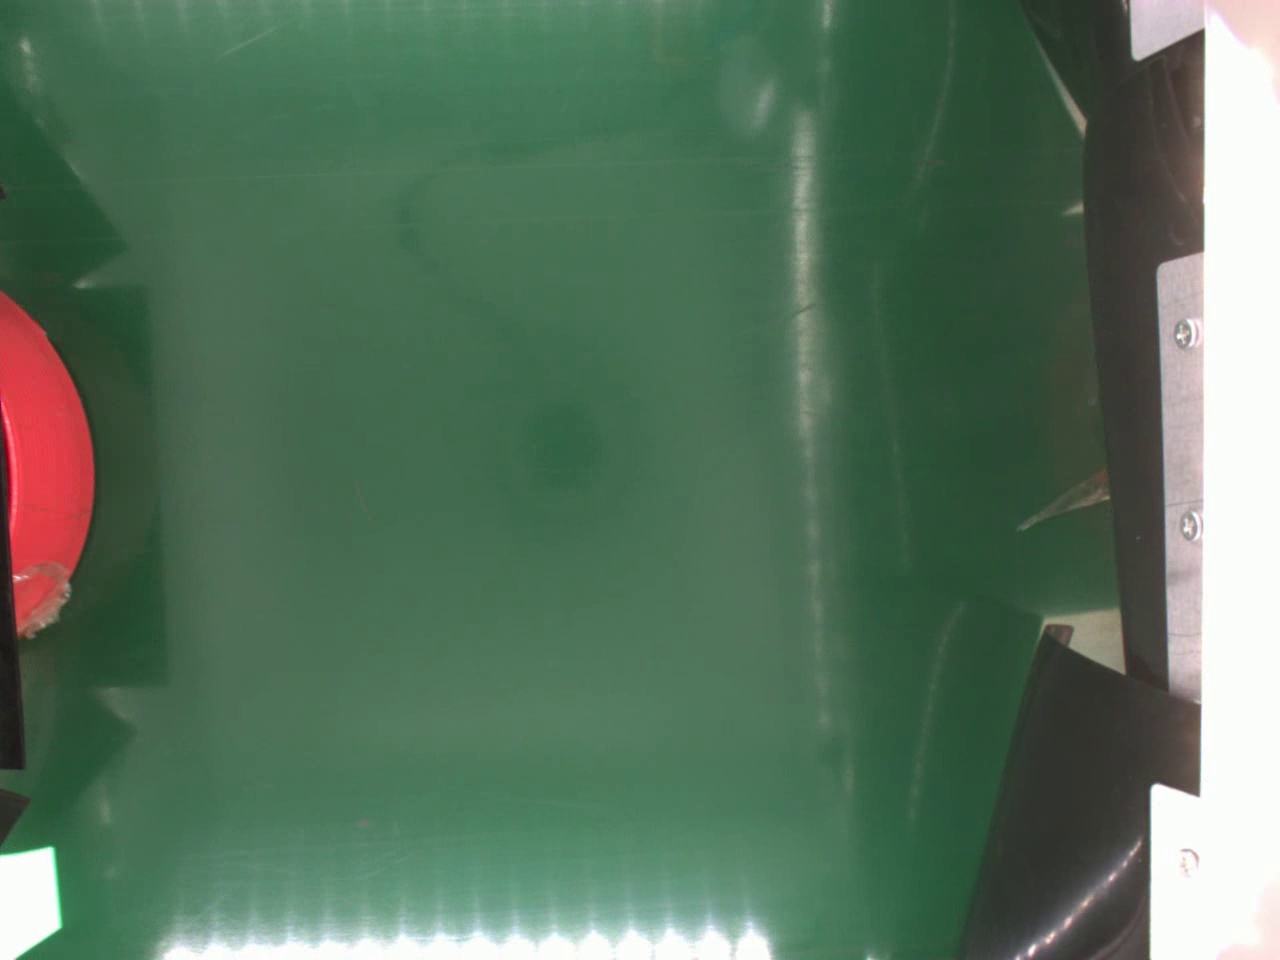red: (0, 287, 100, 635)
